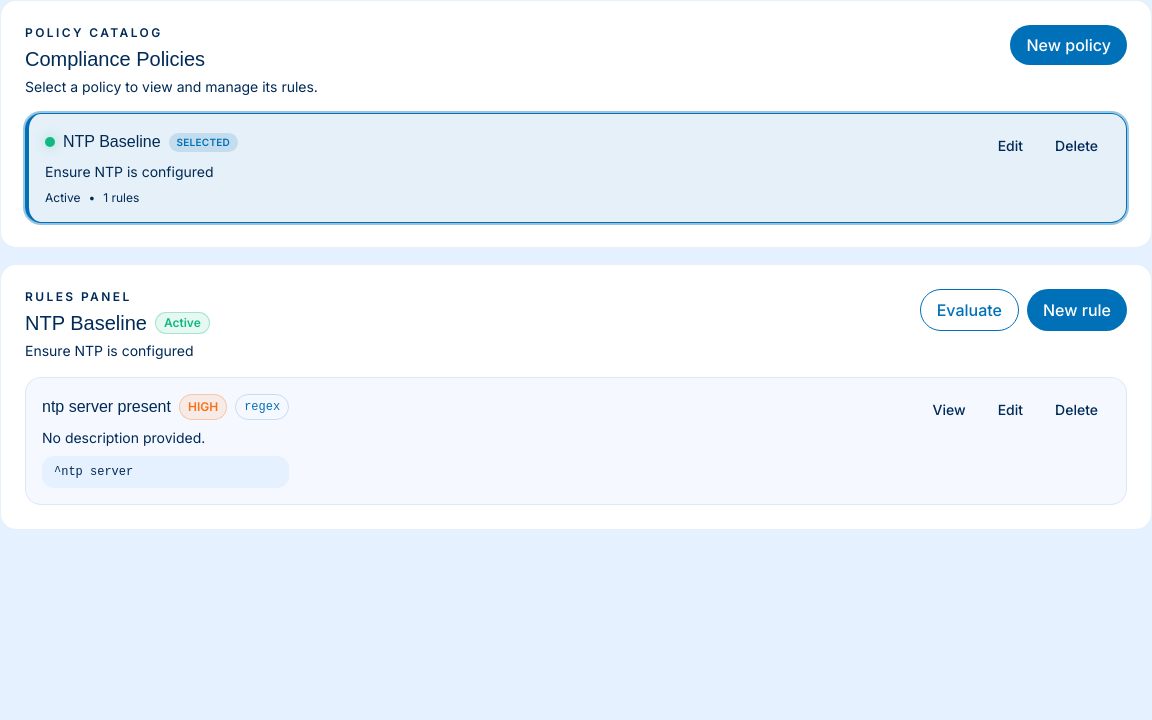
CompliancePoliciesPage › opens a read-only rule view before editing
The width and height of the screenshot is (1152, 720).
Expected: the heading "ntp server present" is shown, [42,395,171,419]
Click the button "View" at (949, 410), box [921,394,978,426]
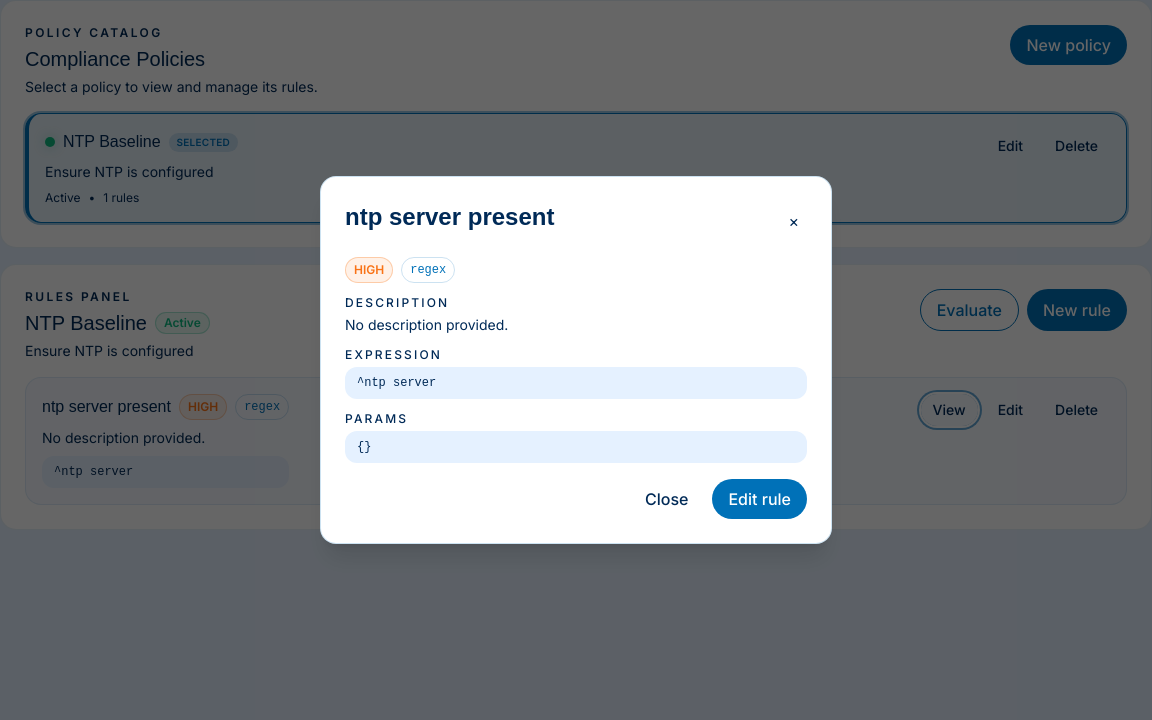
Note: Read-only view offers an explicit Edit action rather than editing inline.
Click the button "Edit rule" at (760, 499), box [712,479,807,519]
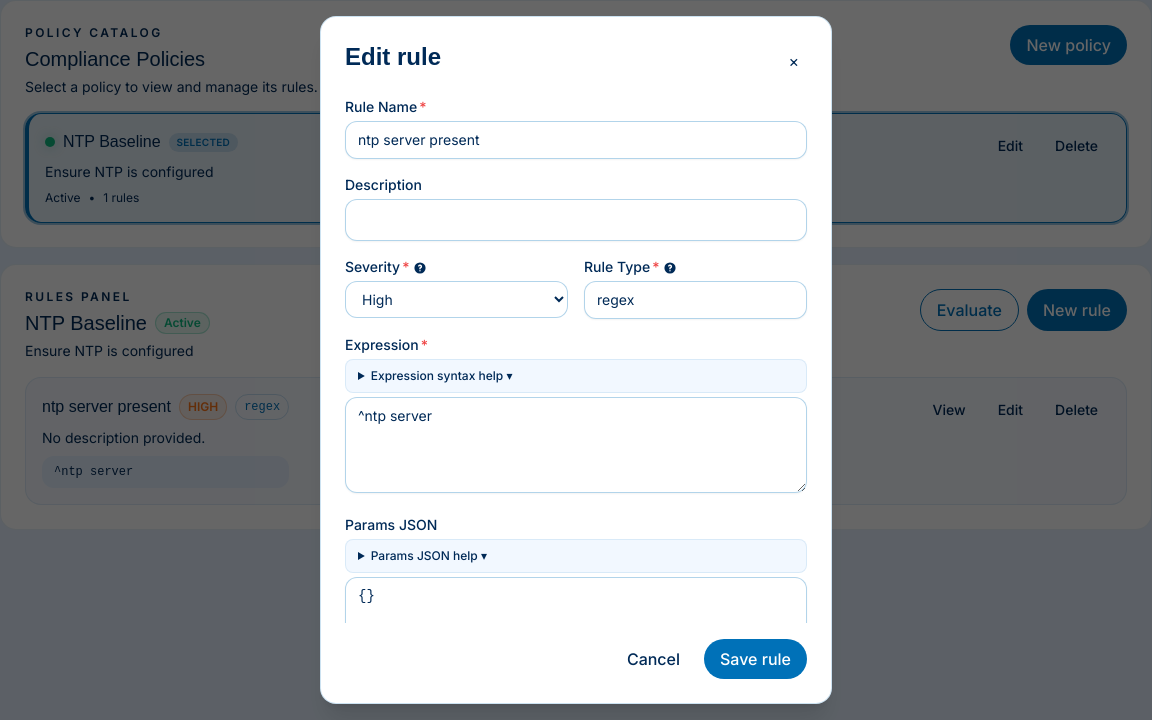
Result: the button "Save rule" is shown at [704,639,807,679]
